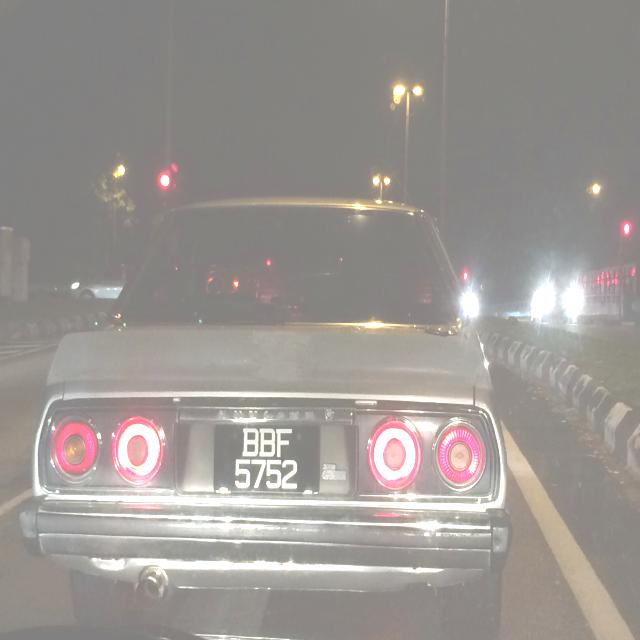Car: (21, 184, 514, 640)
